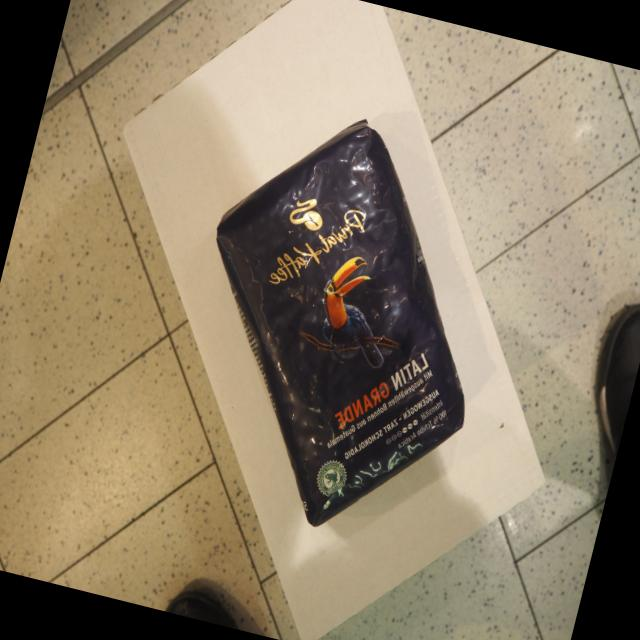LG Bohne: (208, 98, 478, 537)
